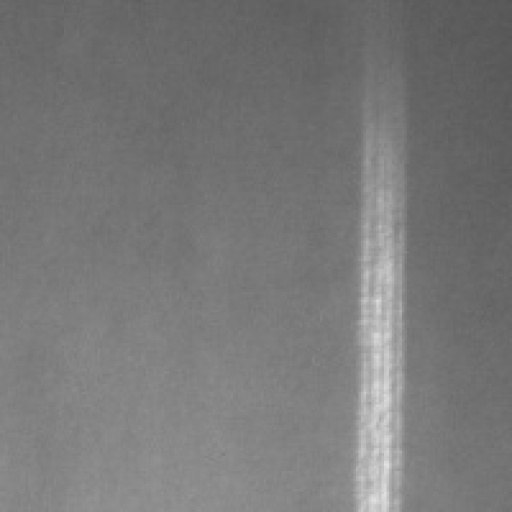scratches: (335, 3, 420, 510)
